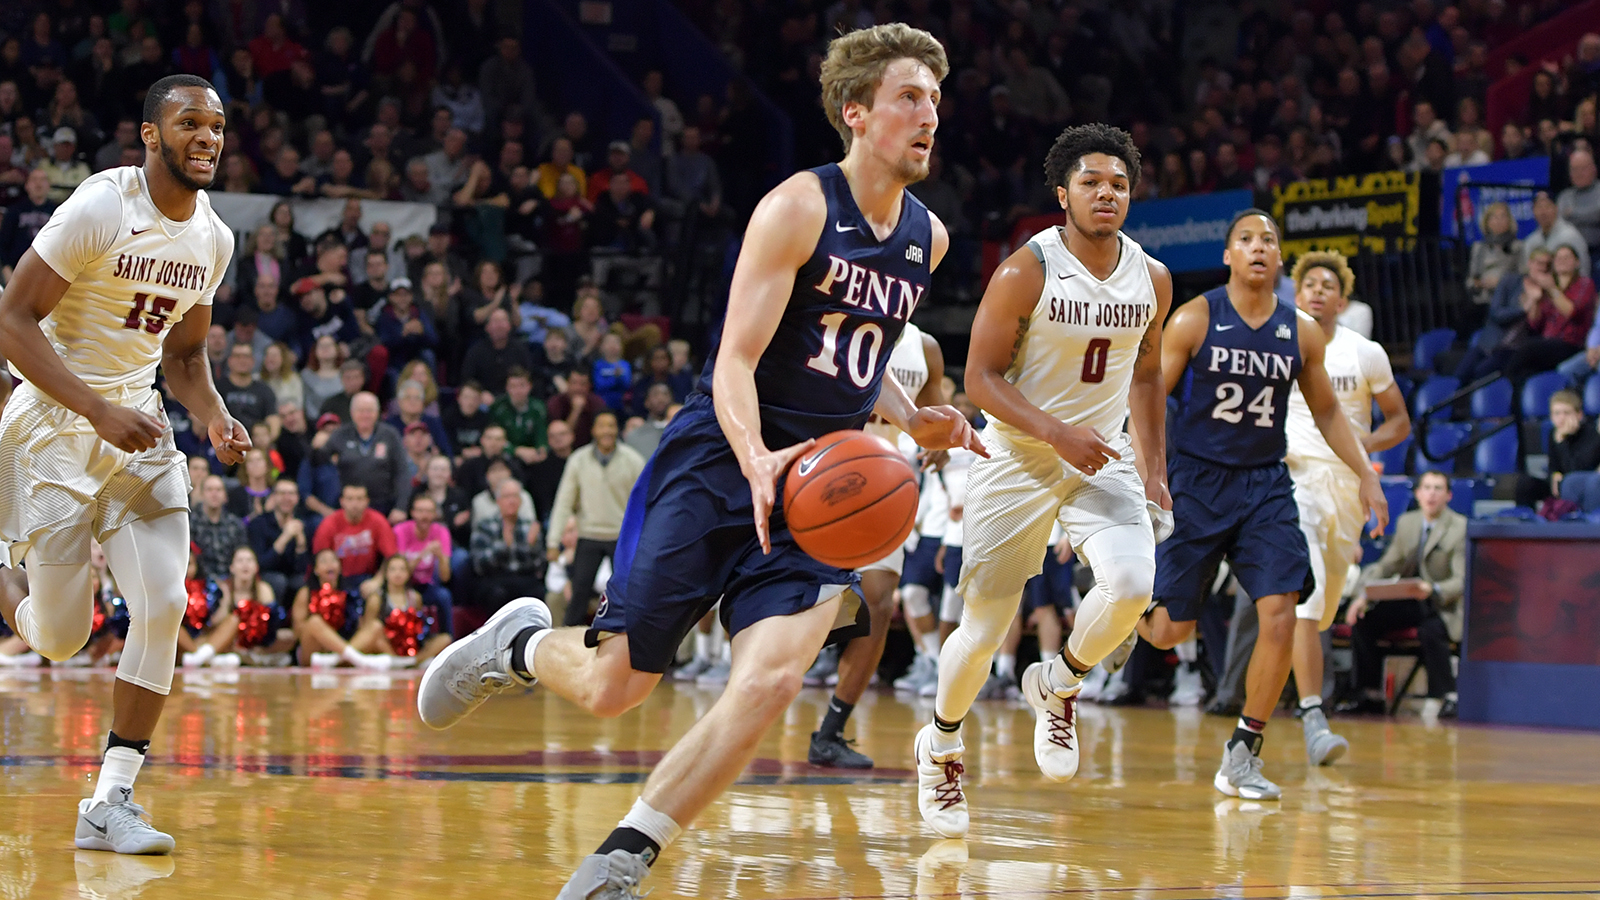ball: (763, 411, 926, 573)
run: (471, 7, 969, 900), (0, 48, 254, 860)
